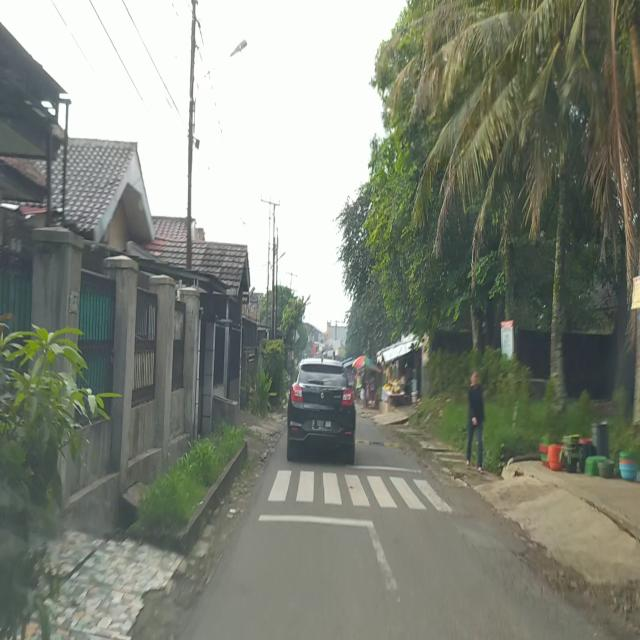Drain Hole: (471, 538, 560, 616), (416, 473, 466, 518)
